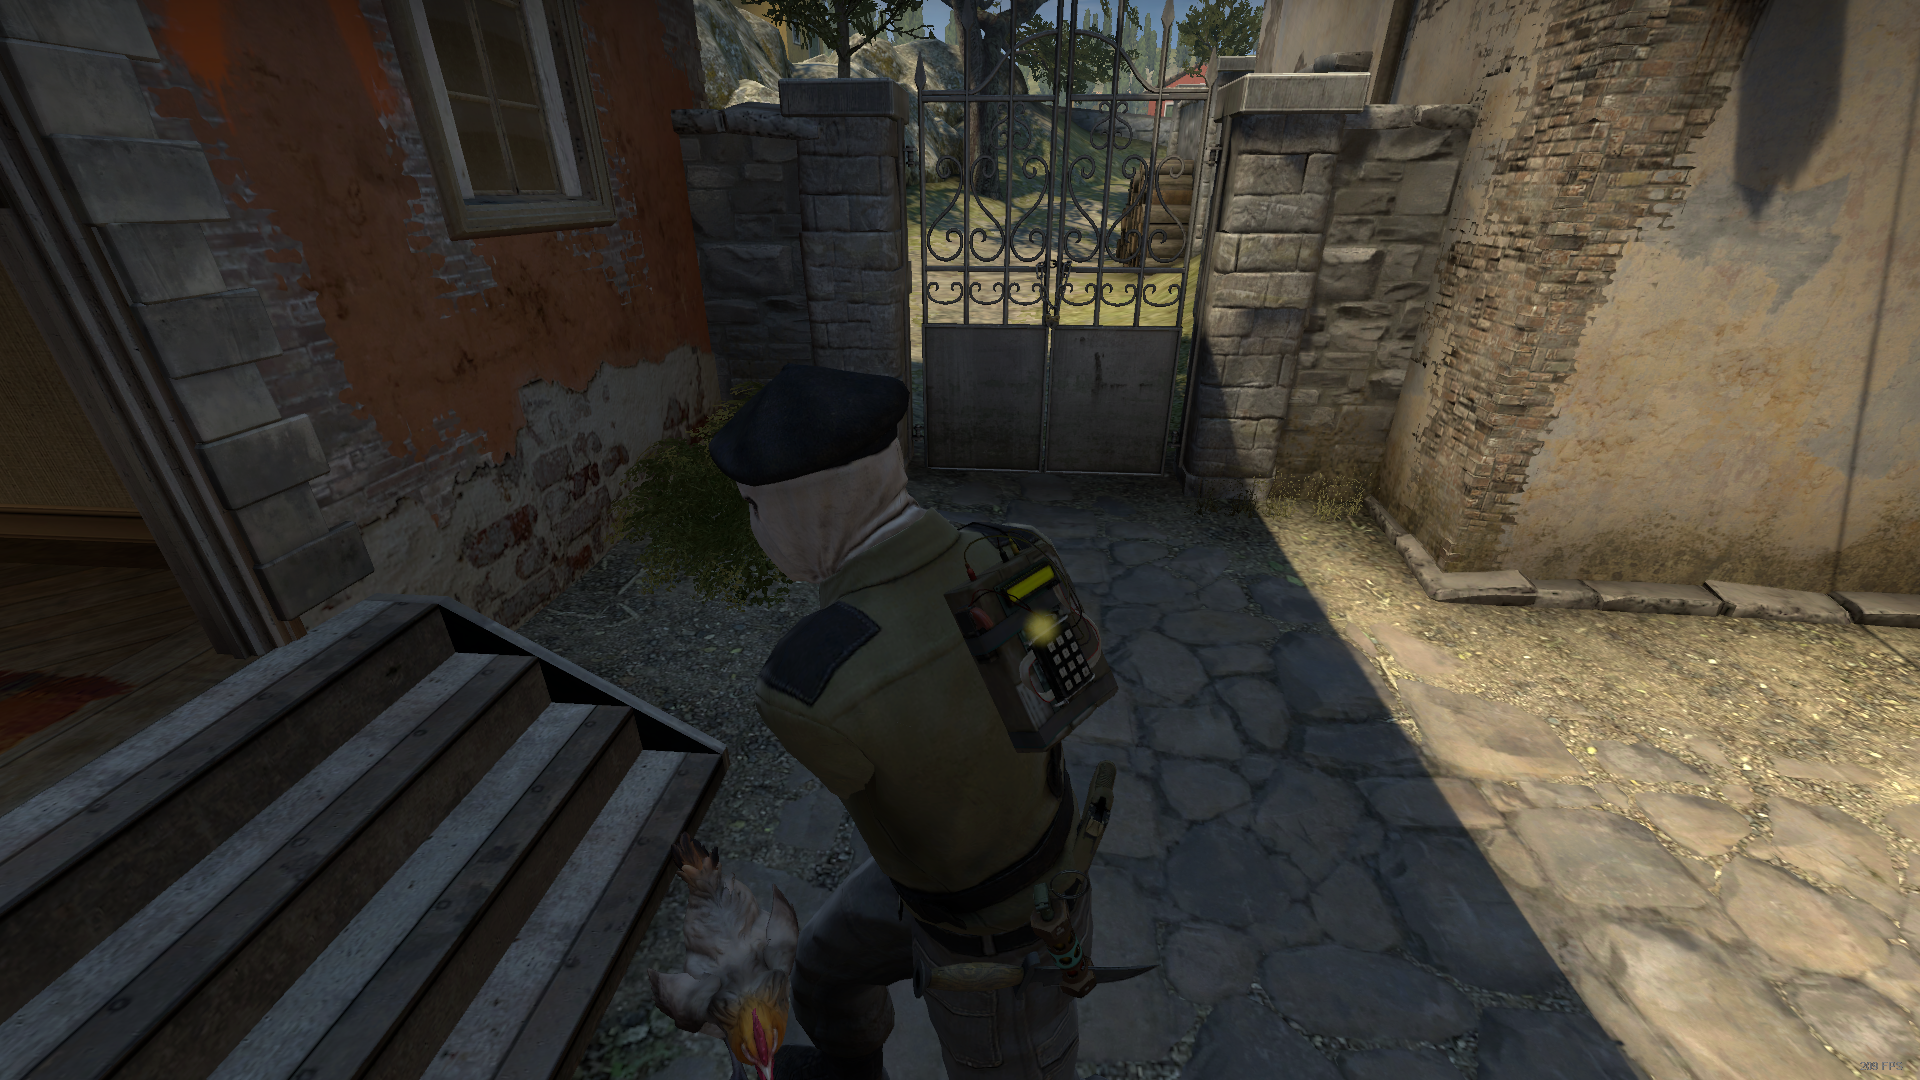t: (705, 363, 1096, 1080)
